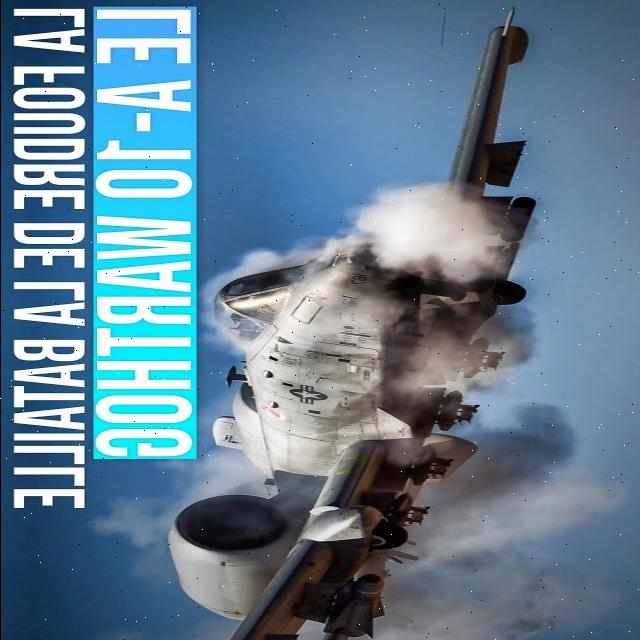A10: (165, 2, 572, 640)
